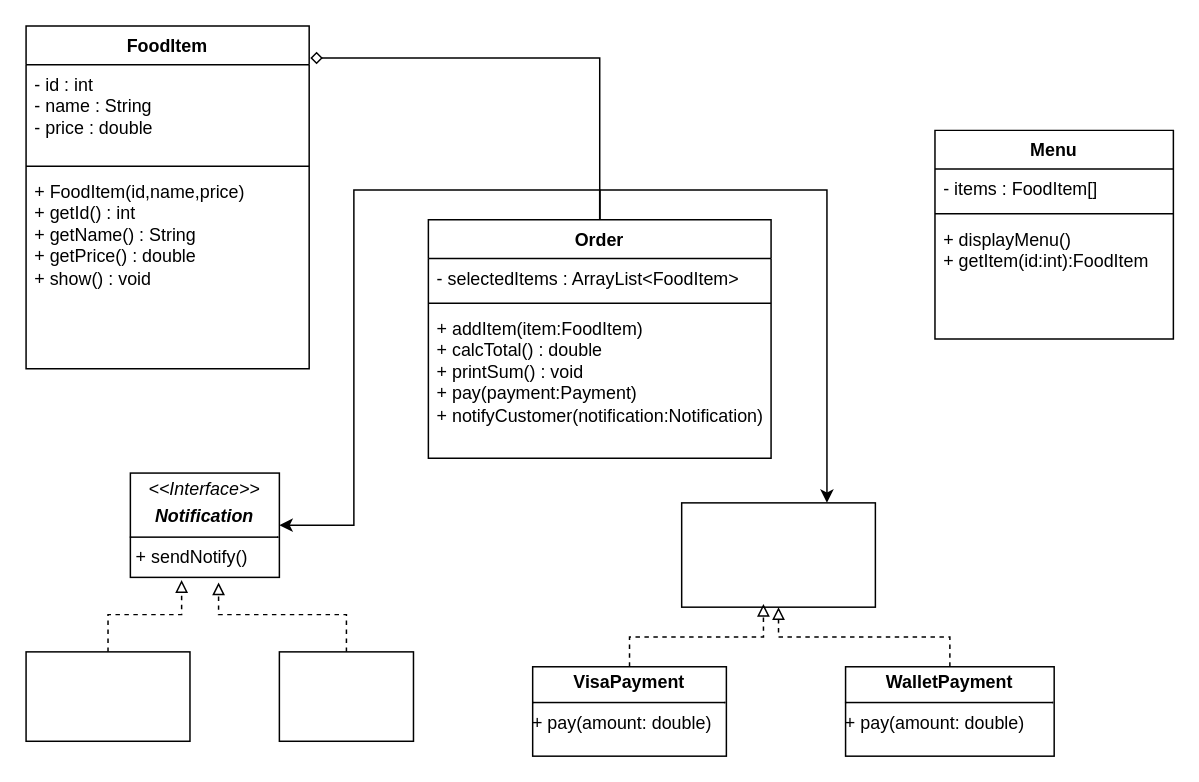
Image size: 1199x782. Some labels were removed from this diagram. The shapes that lost their labels are listed below. From the top down, each one's centre as x and y in pixels, then its label:
point (777, 554): <<Interface>> Payment + pay(amount:double)
point (107, 695): EmailNotification + sendNotify()
point (345, 695): SMS + sendNotify()
